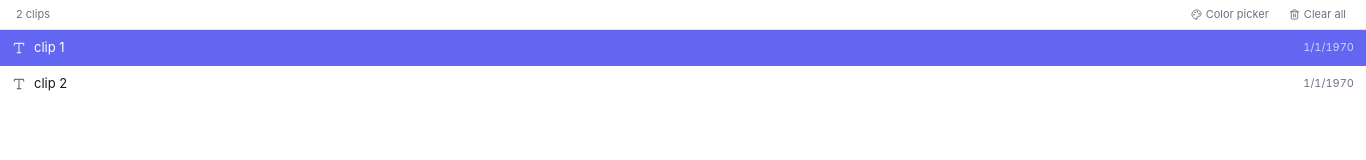
Scenario: HistoryList — clear all is two-stage › deletes only on the confirm, then returns to the idle button
Click the button titled "Delete all clipboard history": click(1317, 14) [1281,4,1354,24]
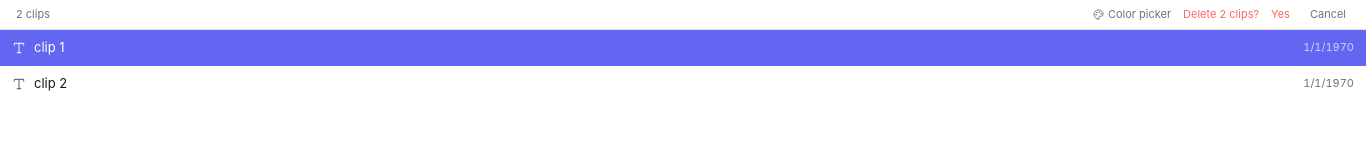
Click the button "Yes": click(1280, 14) [1263,4,1298,24]
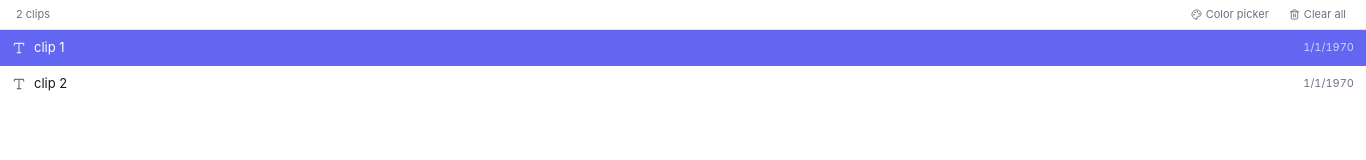
Result: the button "Yes" is gone
Result: the button titled "Delete all clipboard history" is shown at [1281,4,1354,24]
